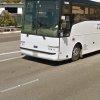Bus: (17, 3, 97, 63)
